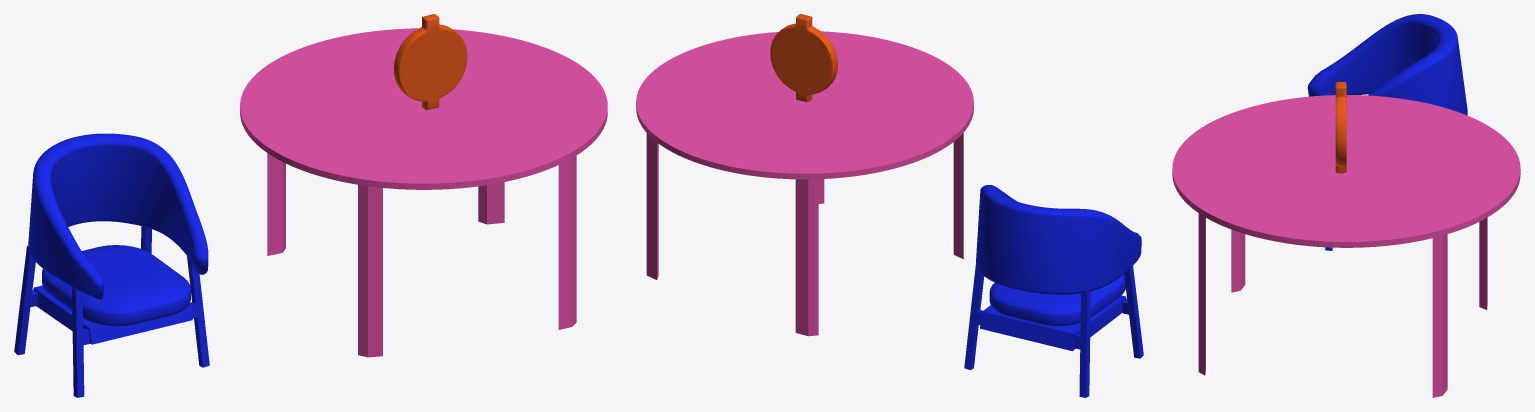
File: SILLA_wUV.fbx
The picture shows the model from 3 angles, left to right: view 1: azimuth 30°, elevation 25°; view 2: azimuth 150°, elevation 25°; view 3: azimuth 270°, elevation 25°; orthographic projection. The views are drawn at different scales.
Parts seen in each view (by area): view 1: Cylinder.001, Cylinder, Cube.005, Circle, Cube.001, Cube.004; view 2: Cylinder.001, Cylinder, Circle, Cube.005, Cube.001, Cube.004; view 3: Cylinder.001, Cylinder, Circle.
Boxes of the visible parts, <box> form: Cylinder.001: <box>240,28,607,357</box>; Cylinder: <box>28,133,208,299</box>; Cube.005: <box>42,245,190,326</box>; Circle: <box>393,14,467,110</box>; Cube.001: <box>14,226,209,397</box>; Cube.004: <box>33,285,192,344</box>; Cylinder.001: <box>636,31,973,336</box>; Cylinder: <box>976,185,1141,294</box>; Circle: <box>770,14,837,102</box>; Cube.005: <box>989,274,1125,326</box>; Cube.001: <box>964,265,1143,397</box>; Cube.004: <box>980,295,1126,351</box>; Cylinder.001: <box>1172,95,1520,397</box>; Cylinder: <box>1307,14,1467,115</box>; Circle: <box>1335,81,1346,173</box>.
Size of the model in its own units: 1031 by 546 by 631.
